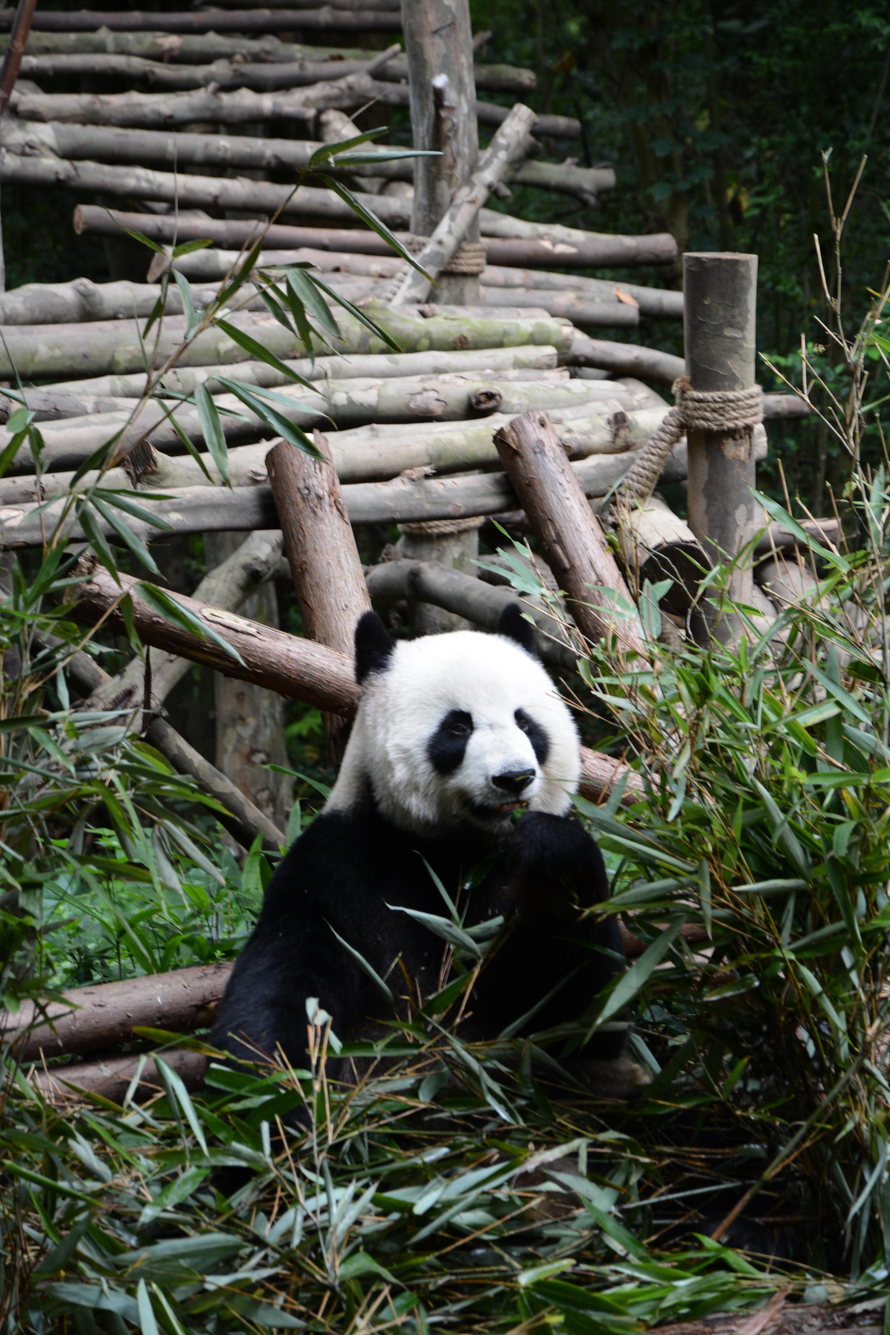panda: (250, 608, 605, 1054)
